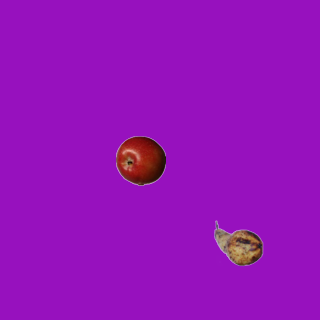Apple Braeburn: (115, 135, 165, 185)
Pear Abate: (213, 218, 263, 268)
